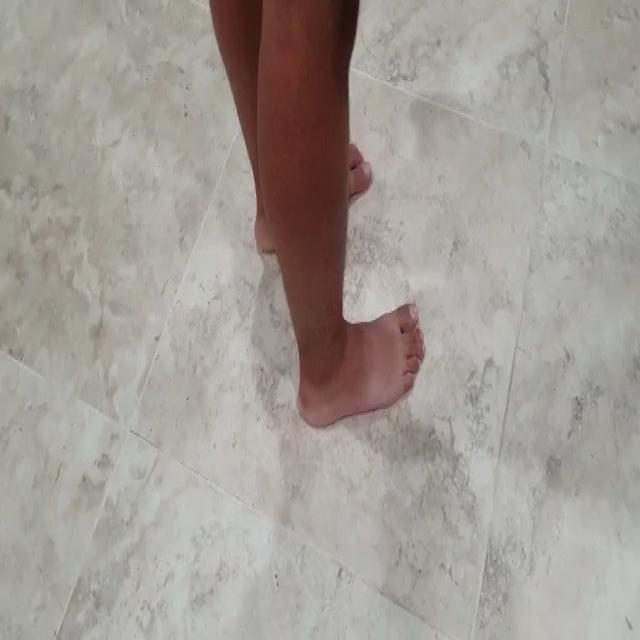no-boots: (296, 292, 427, 443), (252, 137, 376, 267)
